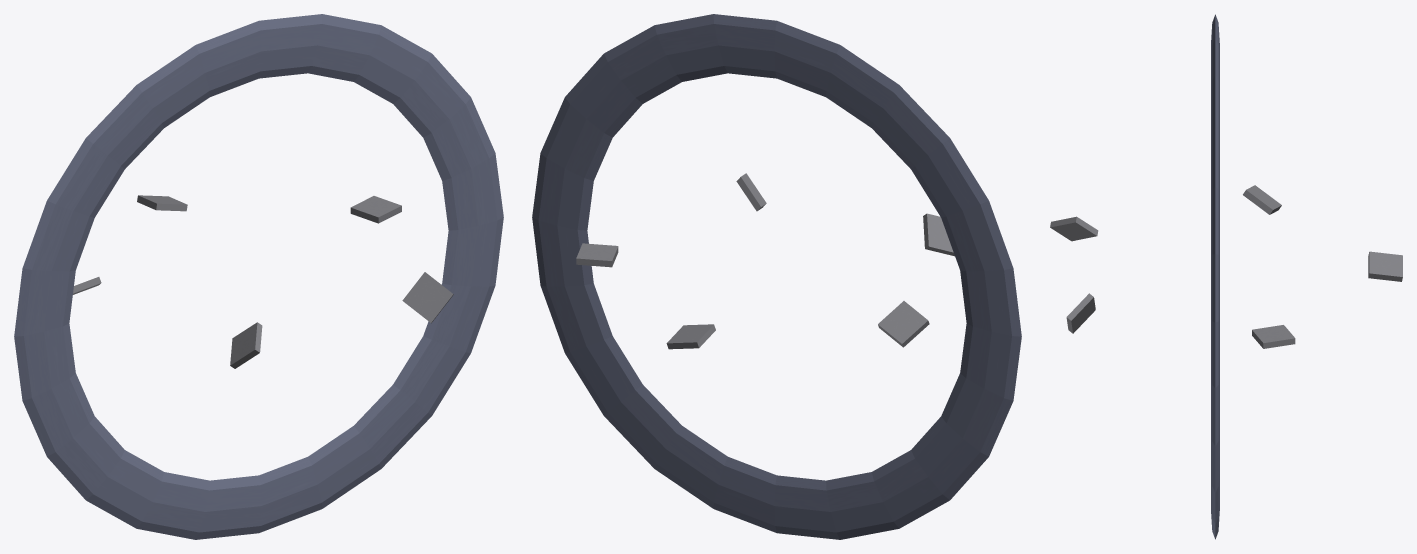
File: gate-breach-shockwave.glb
3 views of the same model, side by side, from view 1: azimuth 30°, elevation 25°; view 2: azimuth 150°, elevation 25°; view 3: azimuth 270°, elevation 25° (orthographic). The views are drawn at different scales.
Visible parts, largest first — view 1: breach-shockwave-ring, breach-shard-4, breach-shard-3, breach-shard-0, breach-shard-1; view 2: breach-shockwave-ring, breach-shard-2, breach-shard-3, breach-shard-1, breach-shard-0; view 3: breach-shockwave-ring, breach-shard-1, breach-shard-3, breach-shard-0, breach-shard-4, breach-shard-2.
Part boxes in pixels (left/top/right/bottom): breach-shockwave-ring: left=14, top=14, right=503, bottom=539; breach-shard-4: left=402, top=272, right=453, bottom=323; breach-shard-3: left=230, top=322, right=262, bottom=368; breach-shard-0: left=350, top=196, right=401, bottom=223; breach-shard-1: left=137, top=195, right=187, bottom=211; breach-shockwave-ring: left=532, top=14, right=1021, bottom=539; breach-shard-2: left=878, top=301, right=929, bottom=347; breach-shard-3: left=923, top=213, right=954, bottom=256; breach-shard-1: left=666, top=324, right=715, bottom=349; breach-shard-0: left=576, top=243, right=618, bottom=267; breach-shockwave-ring: left=1211, top=14, right=1219, bottom=539; breach-shard-1: left=1368, top=251, right=1402, bottom=281; breach-shard-3: left=1050, top=216, right=1098, bottom=241; breach-shard-0: left=1252, top=325, right=1295, bottom=348; breach-shard-4: left=1066, top=293, right=1095, bottom=333; breach-shard-2: left=1243, top=185, right=1281, bottom=214.
Bounding box in the file's own units: 1.24 × 1.24 × 0.829.
Materials: 2 (2 with a texture image).
